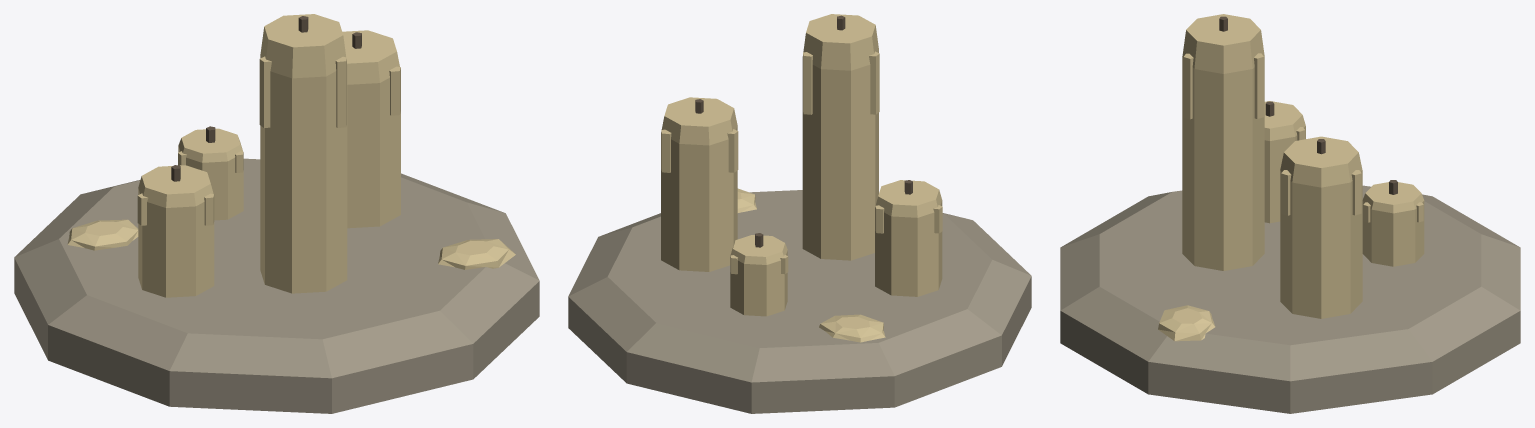
File: DG_Candles_OfferingCluster.fbx
3 renders of one model, left to right at view 1: azimuth 30°, elevation 25°; view 2: azimuth 150°, elevation 25°; view 3: azimuth 270°, elevation 25°, orthographic. The views are drawn at different scales.
Visible parts, largest first — view 1: DG_Candles_OfferingCluster; view 2: DG_Candles_OfferingCluster; view 3: DG_Candles_OfferingCluster.
Part boxes in pixels (x1=…): DG_Candles_OfferingCluster: x1=14, y1=14, x2=539, y2=413; DG_Candles_OfferingCluster: x1=568, y1=14, x2=1031, y2=413; DG_Candles_OfferingCluster: x1=1060, y1=14, x2=1520, y2=413.
Bounding box in the file's own units: 0.94 × 0.62 × 0.894.
